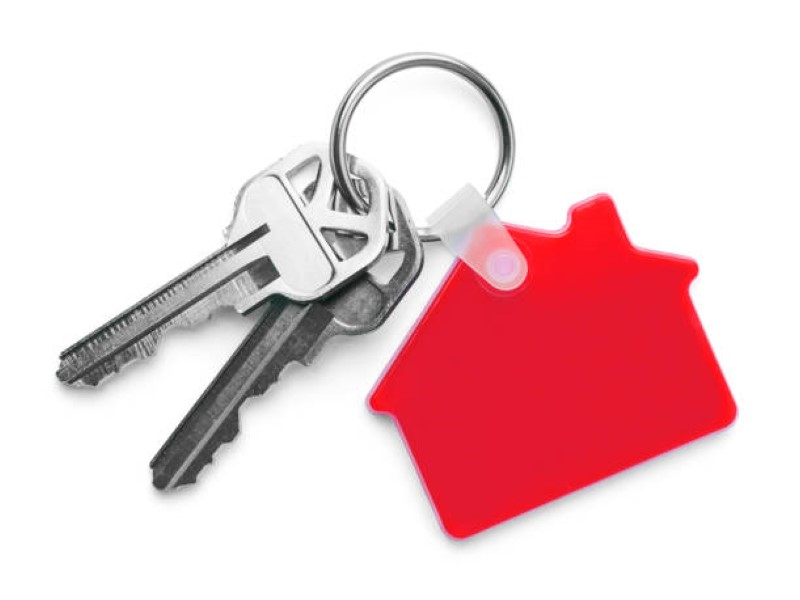key: (54, 137, 424, 499)
